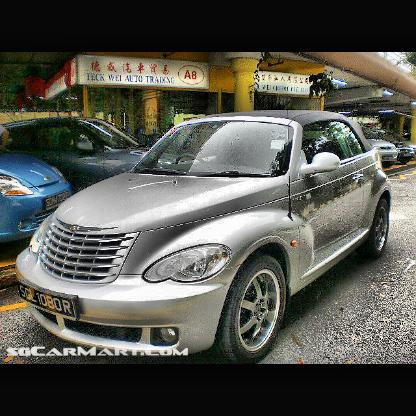Chrysler PT Cruiser Convertible 2008: (18, 110, 393, 364)
